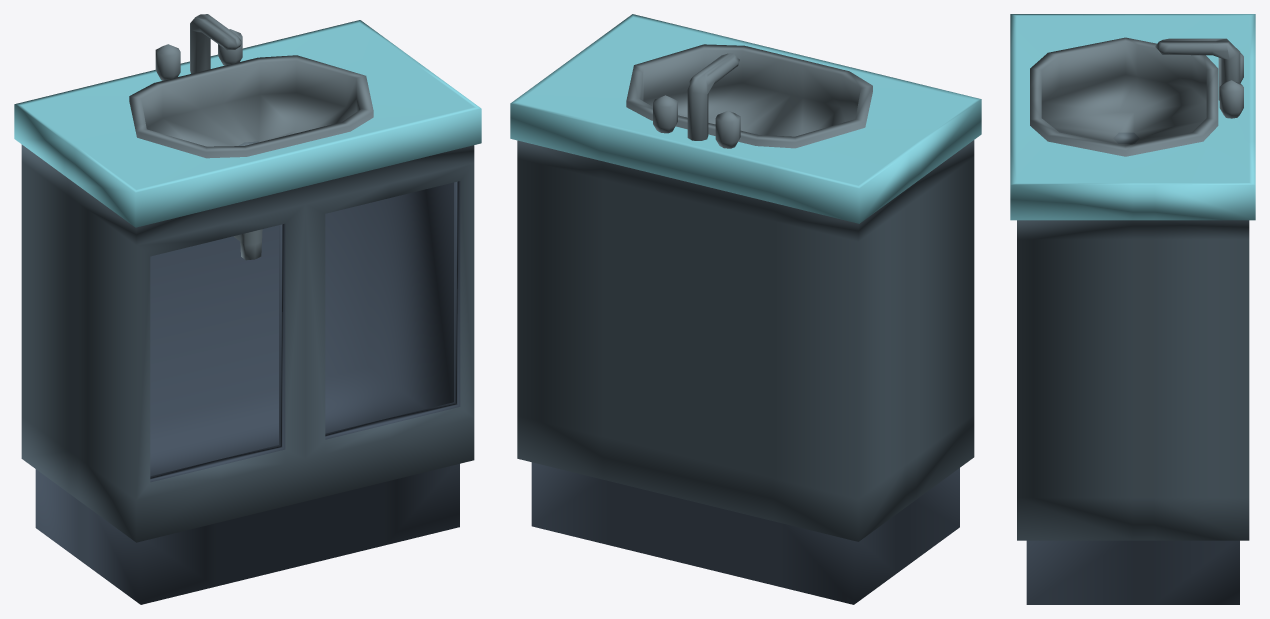
Rendered from VanitySink_Bathroom_V1.fbx.
3 views of the same model, side by side, from view 1: azimuth 30°, elevation 25°; view 2: azimuth 150°, elevation 25°; view 3: azimuth 270°, elevation 25° (orthographic).
Visible parts, largest first — view 1: VanitySink, Tap, Tap tempeture; view 2: VanitySink, Tap, Tap tempeture; view 3: VanitySink, Tap, Tap tempeture.
Boxes of the visible parts, left/top/right/bottom form: VanitySink: left=14, top=20, right=481, bottom=604; Tap: left=190, top=14, right=241, bottom=73; Tap tempeture: left=155, top=29, right=242, bottom=80; VanitySink: left=510, top=14, right=981, bottom=604; Tap: left=687, top=53, right=739, bottom=140; Tap tempeture: left=653, top=95, right=740, bottom=148; VanitySink: left=1010, top=14, right=1255, bottom=604; Tap: left=1155, top=38, right=1240, bottom=100; Tap tempeture: left=1219, top=53, right=1243, bottom=118.
Size of the model in its own units: 94.2 by 124 by 57.17.
